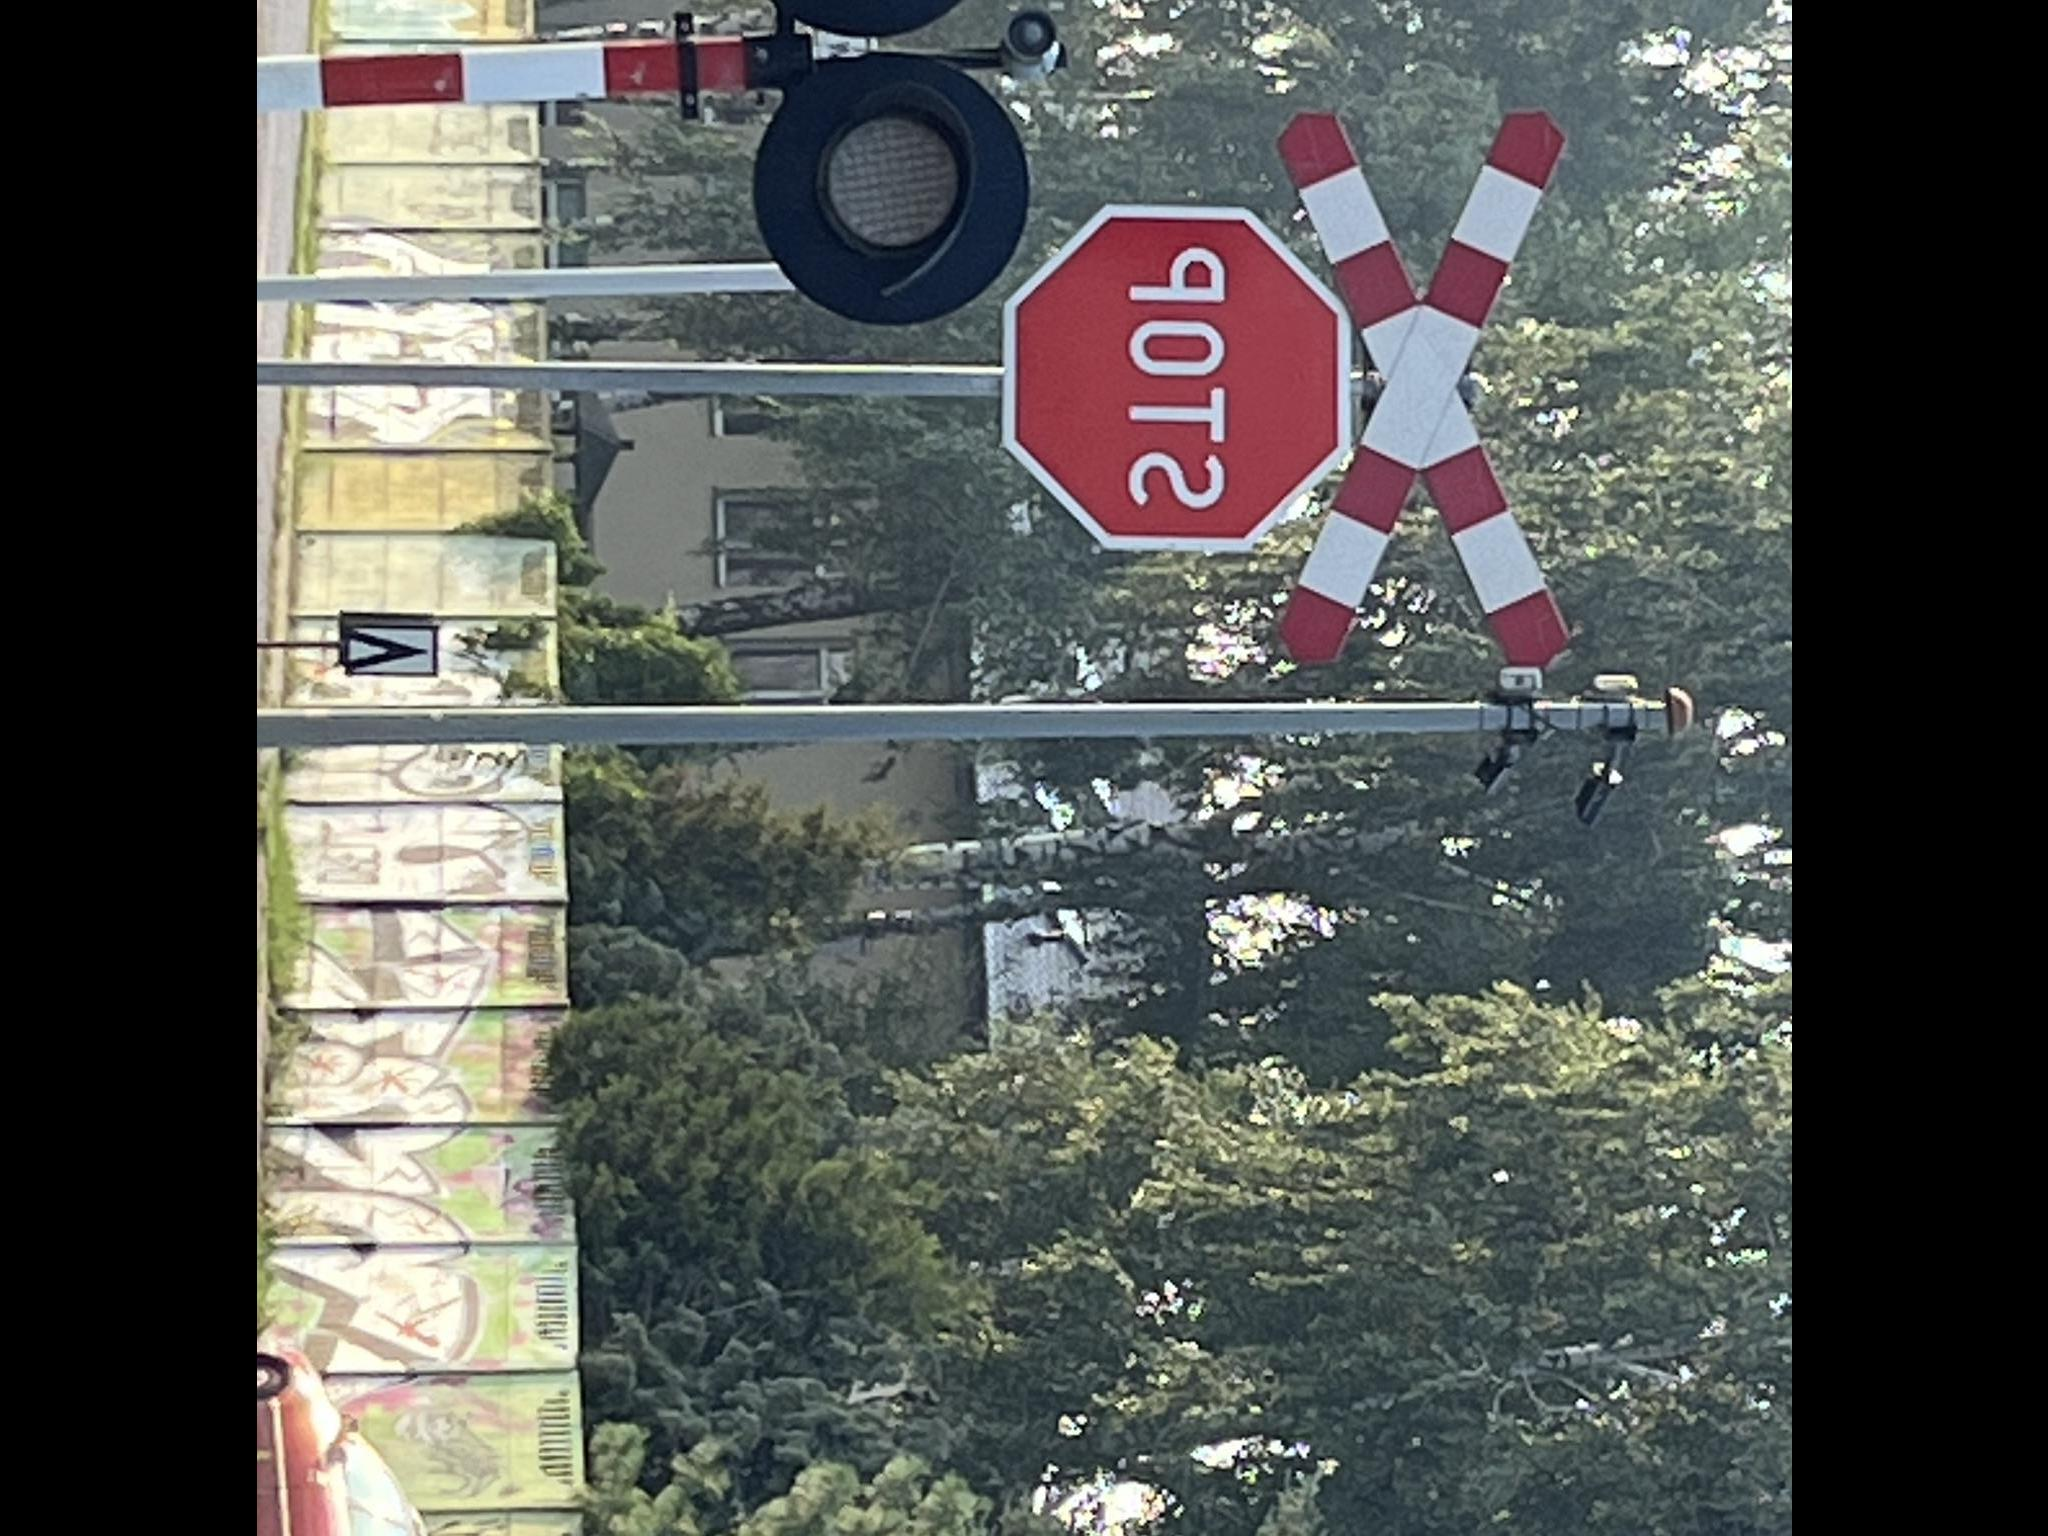prohibitory: (1001, 200, 1350, 549)
